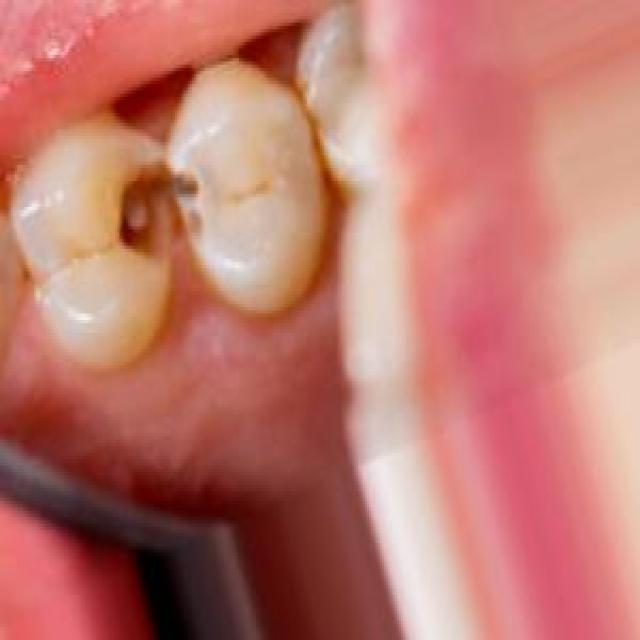caries: (107, 138, 226, 290)
